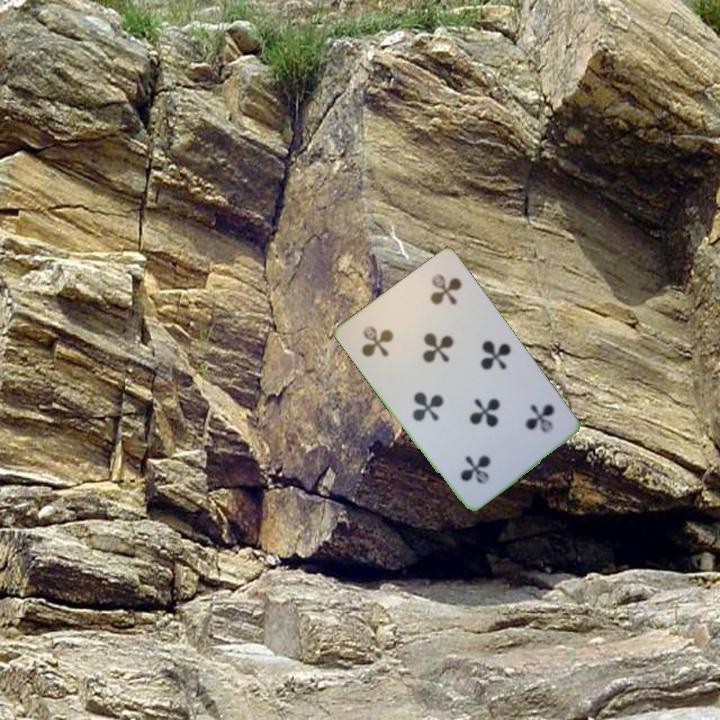c_8.png: (485, 383, 571, 467), (345, 295, 431, 379)
